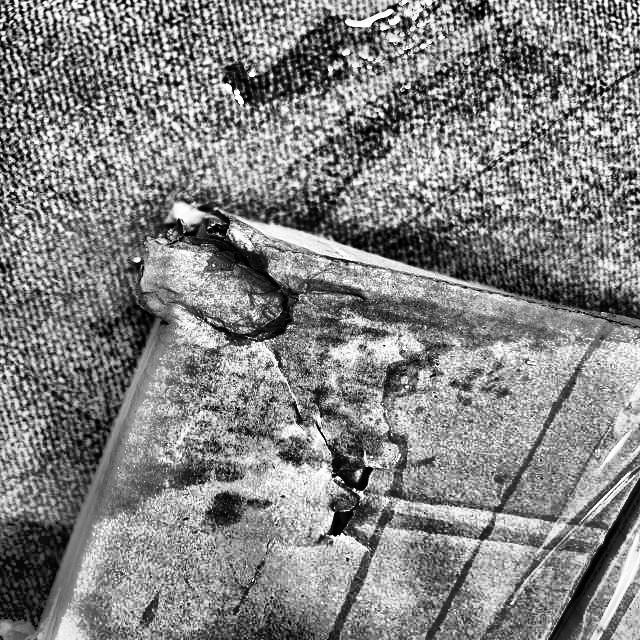box: (39, 198, 639, 639)
wet: (123, 233, 591, 529)
